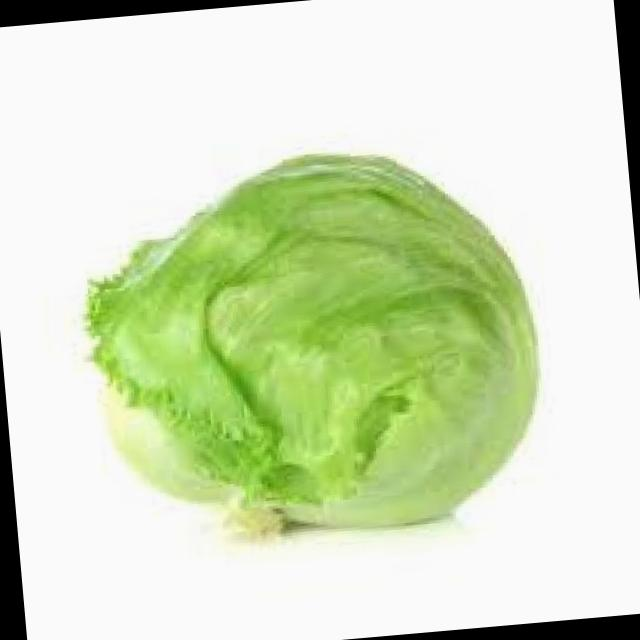Lettuce-Ready-to-Harvest: (87, 154, 537, 530)
